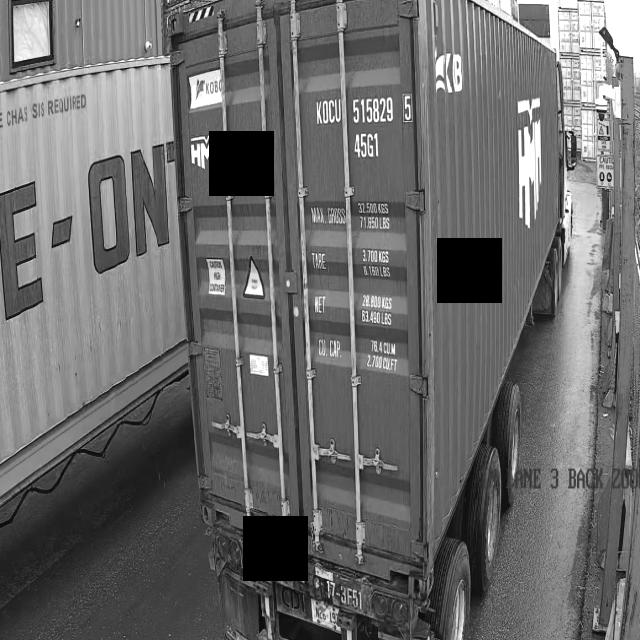container_company_logo: (190, 134, 228, 170)
container_number: (315, 94, 410, 160)
license_plate: (309, 595, 342, 627)
other_container_info: (308, 188, 403, 374)
truck_with_container: (172, 0, 574, 640)
